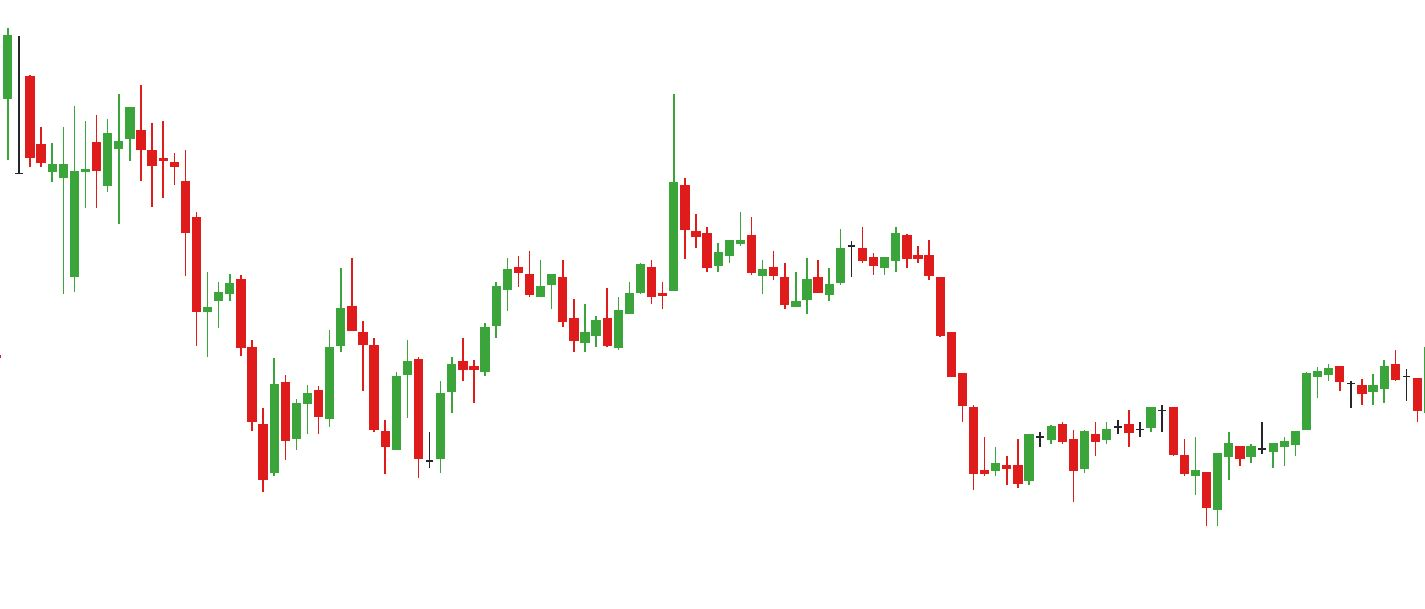buy: (1067, 423, 1225, 534), (299, 323, 403, 480)
